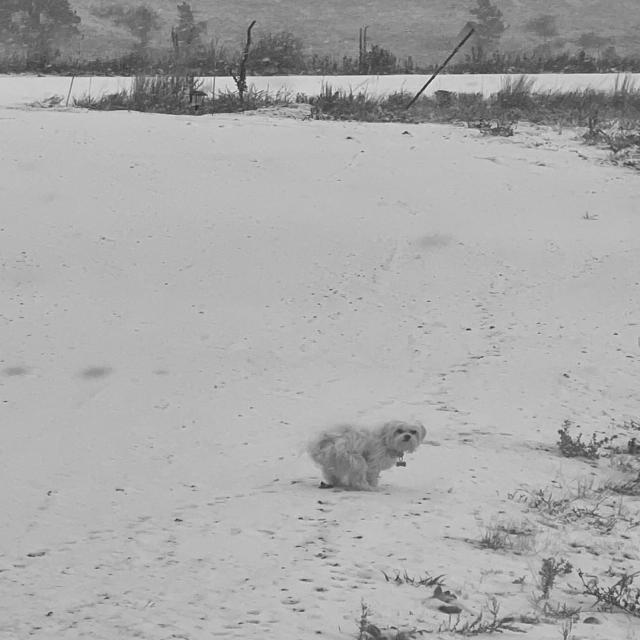squatting: (303, 414, 429, 494)
